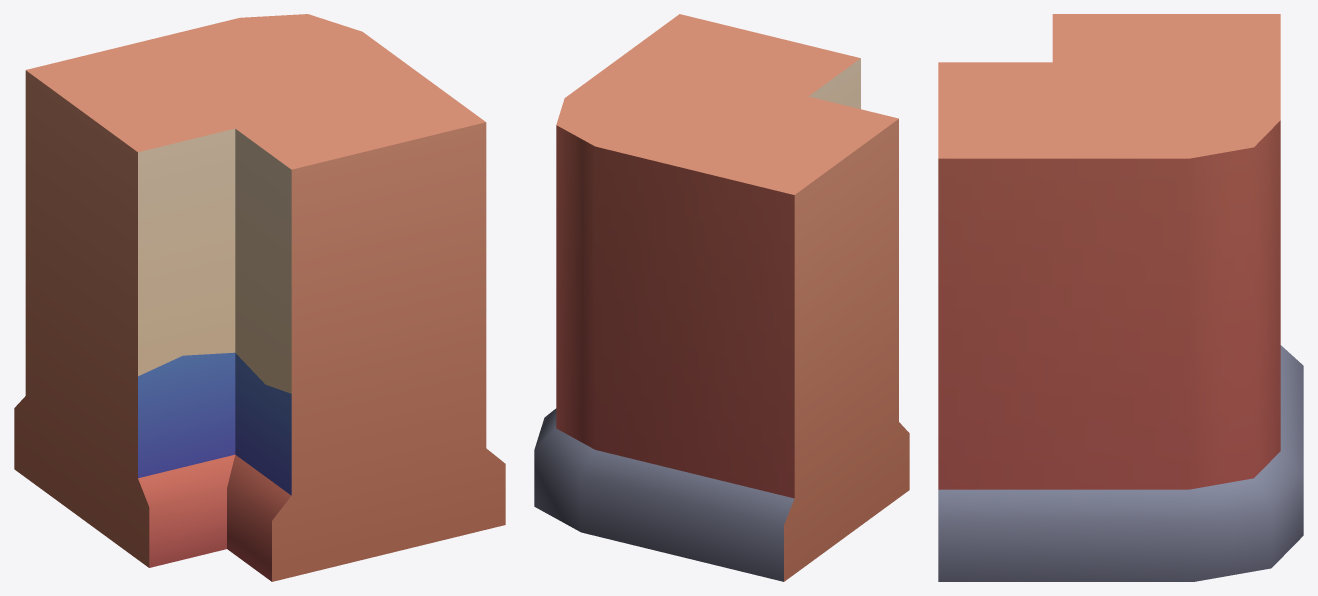
Rendered from wall-corner.obj.
3 renders of one model, left to right at view 1: azimuth 30°, elevation 25°; view 2: azimuth 150°, elevation 25°; view 3: azimuth 270°, elevation 25°, orthographic. The views are drawn at different scales.
Visible parts, largest first — view 1: wall-corner; view 2: wall-corner; view 3: wall-corner.
Boxes of the visible parts, x1,y1,x2,y2 form: wall-corner: (14, 14, 505, 581); wall-corner: (534, 14, 909, 581); wall-corner: (938, 14, 1303, 581).
Size of the model in its own units: 0.8 by 1 by 0.8.
